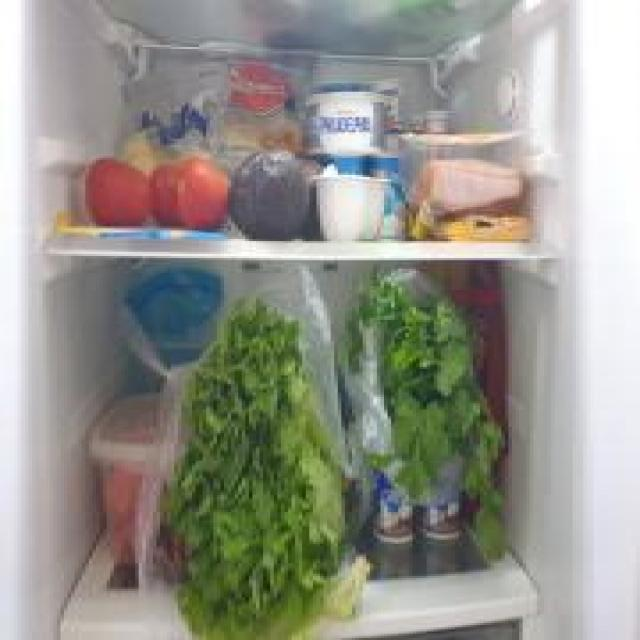avocado: (228, 145, 310, 239)
grated_cheese: (202, 41, 306, 156), (122, 69, 225, 155)
salad: (167, 305, 341, 640)
tomato: (86, 154, 156, 228), (174, 159, 228, 234), (151, 162, 180, 222)
yogurt: (370, 453, 416, 545)
